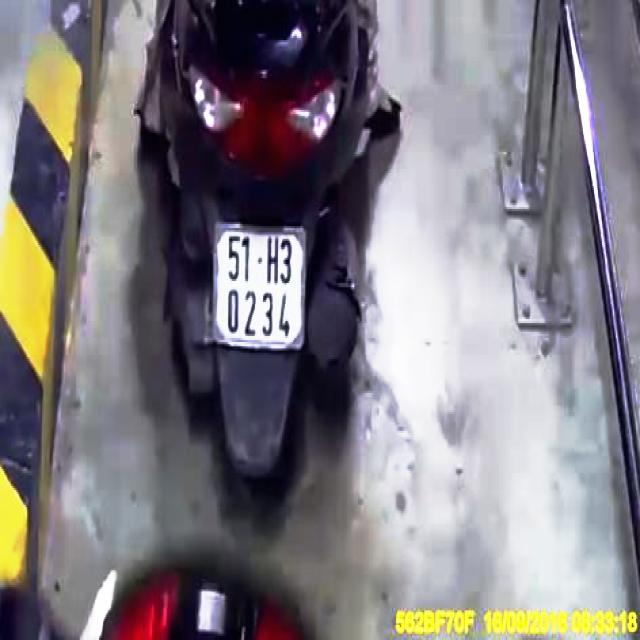license_plate: (214, 225, 307, 351)
